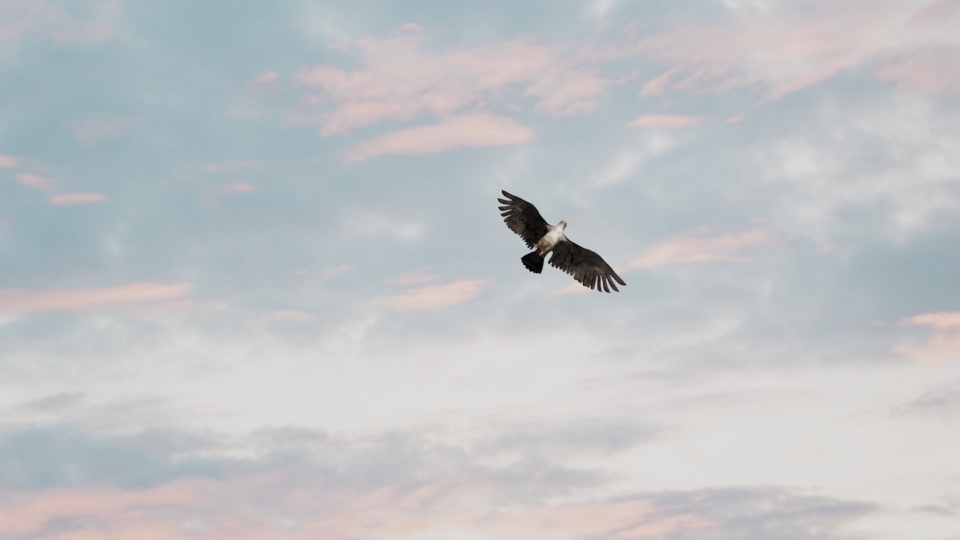bird: (496, 190, 630, 298)
